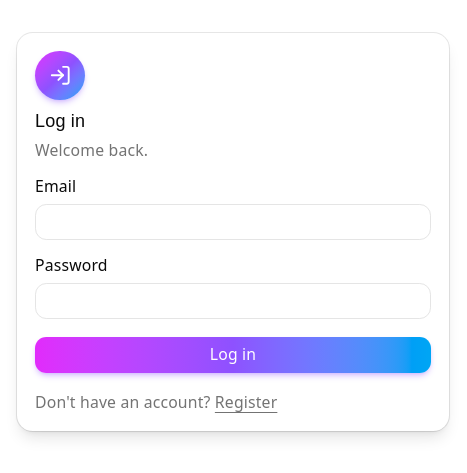
Test: LoginPage › shows a validation error for an invalid email instead of submitting
The image size is (467, 473).
In the field labelled "Email": (233, 222) [35,204,431,240], type "not-an-email"
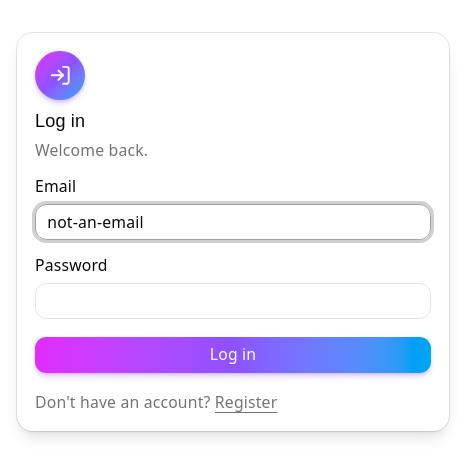
In the password field labelled "Password": (233, 301) [35,283,431,319], type "password123"
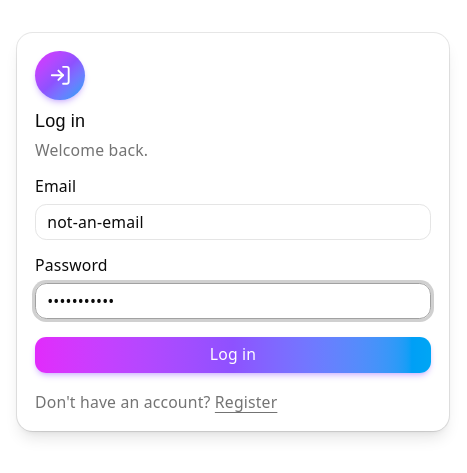
Click the button "Log in": (233, 355) [35,337,431,373]
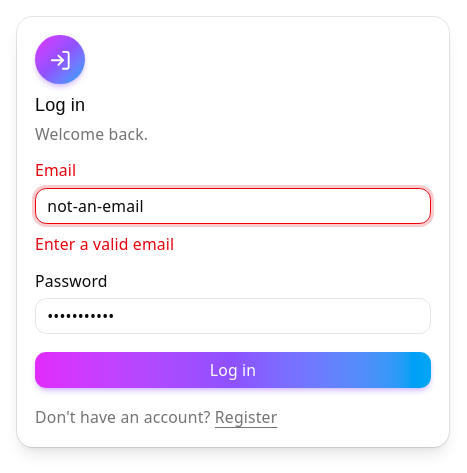
Expected: the text "Enter a valid email" is shown, [35,233,174,255]
